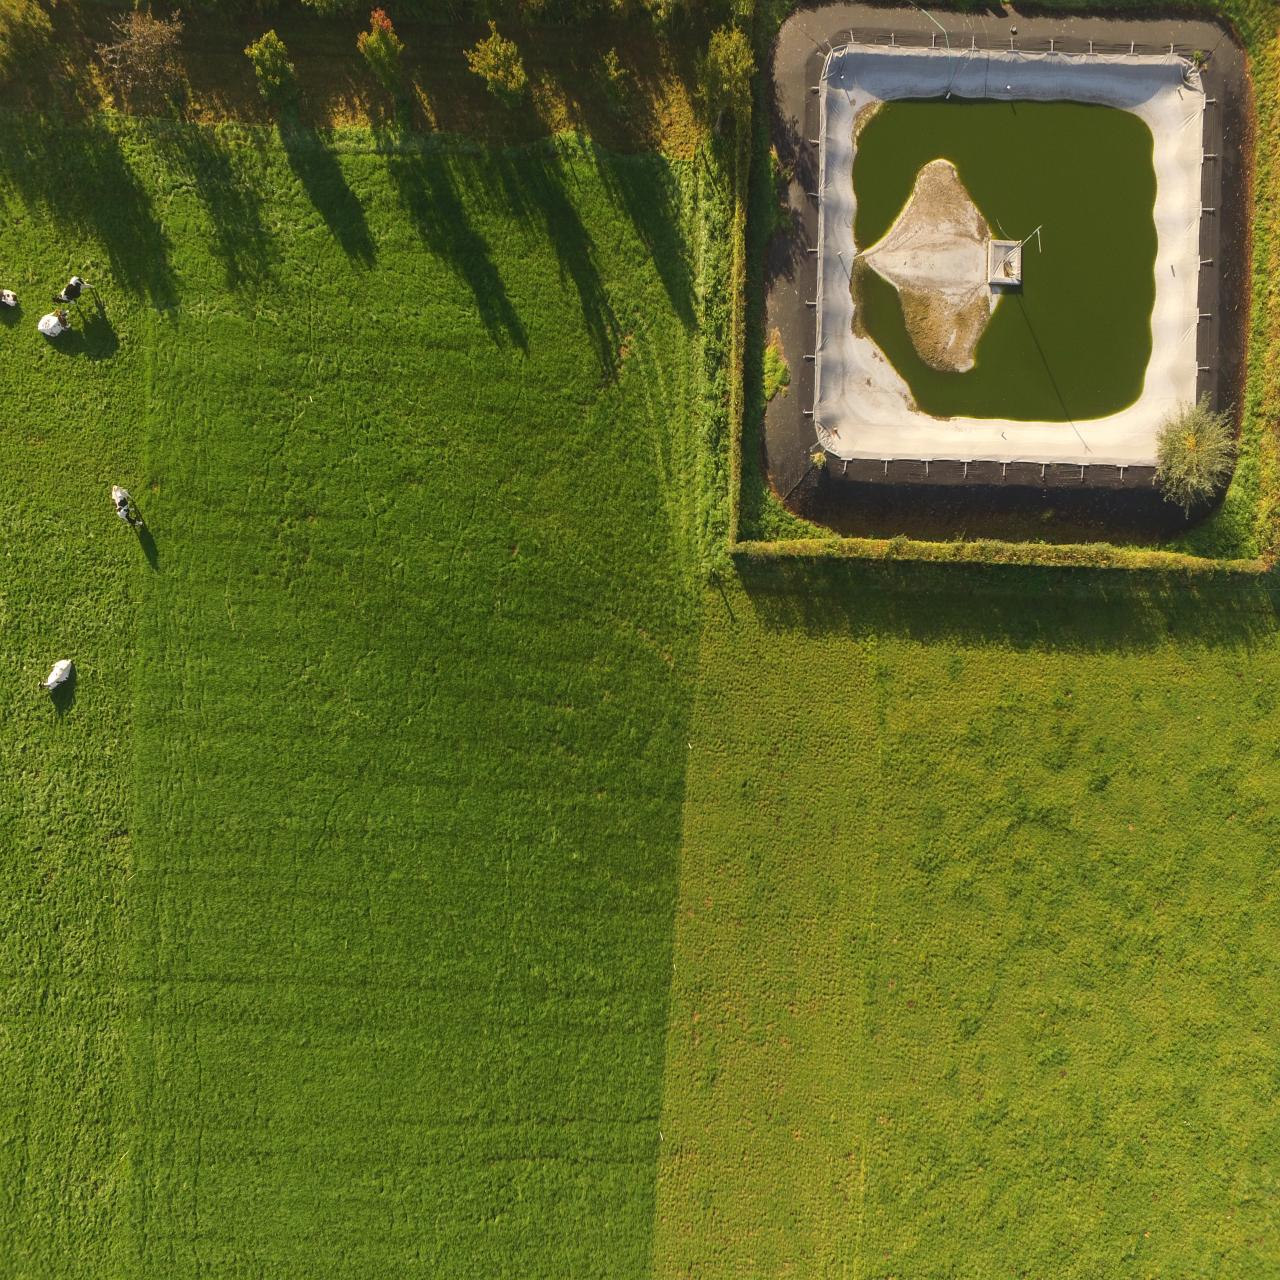cow: (38, 651, 76, 699), (109, 488, 142, 530), (42, 309, 83, 342), (54, 274, 89, 299)
